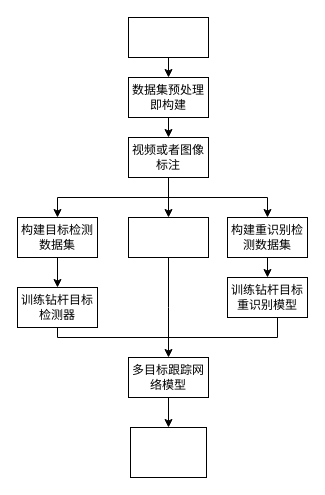
The diagram is 325 pixels wide and 495 high, and some of its shapes have lost their labels. The box of each missing label's shape, as (x1, y1, x2, y2) in pixels:
构建多目标跟踪数据集: (128, 216, 208, 258)
生产数据获取: (128, 16, 208, 58)
跟踪结果再分析算法: (130, 426, 206, 478)
